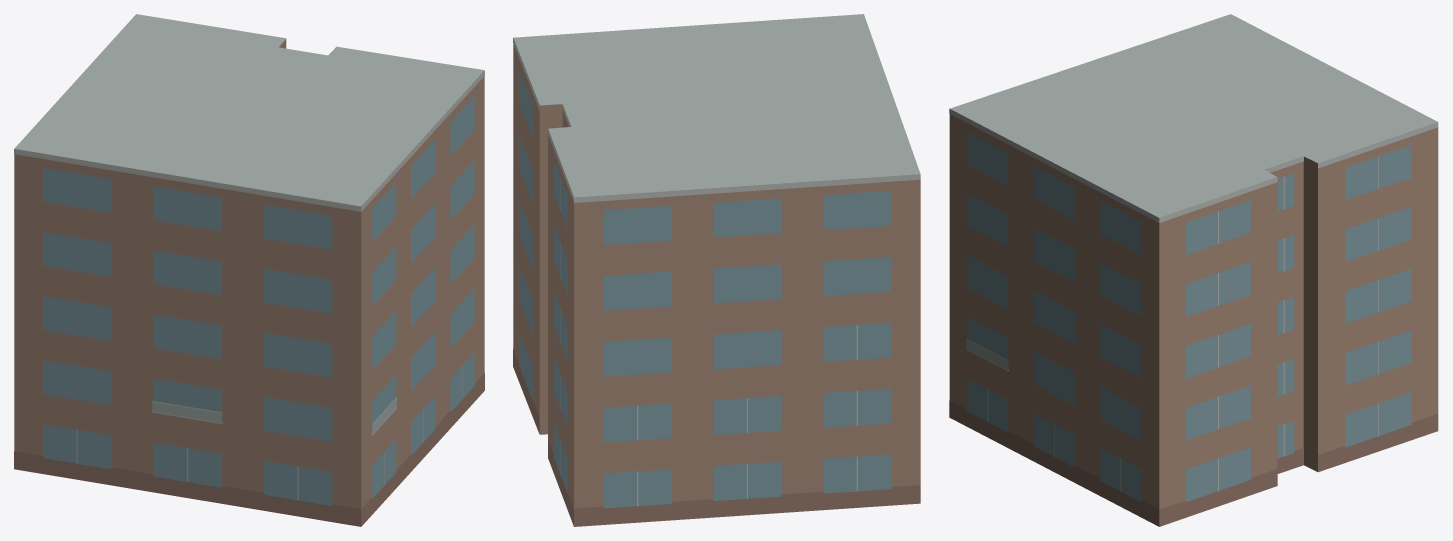
The model's file is survey-upis-32740792.glb.
3 renders of one model, left to right at view 1: azimuth 30°, elevation 25°; view 2: azimuth 150°, elevation 25°; view 3: azimuth 270°, elevation 25°, orthographic. The views are drawn at different scales.
Visible parts, largest first — view 1: survey-upis-32740792.tmp; view 2: survey-upis-32740792.tmp; view 3: survey-upis-32740792.tmp.
Boxes of the visible parts, <box> form: survey-upis-32740792.tmp: <box>14,14,484,526</box>; survey-upis-32740792.tmp: <box>513,14,920,526</box>; survey-upis-32740792.tmp: <box>949,14,1438,526</box>.
Size of the model in its own units: 20.68 by 14.6 by 20.95.
